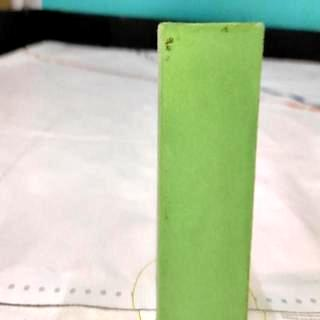greenbox: (156, 23, 264, 320)
